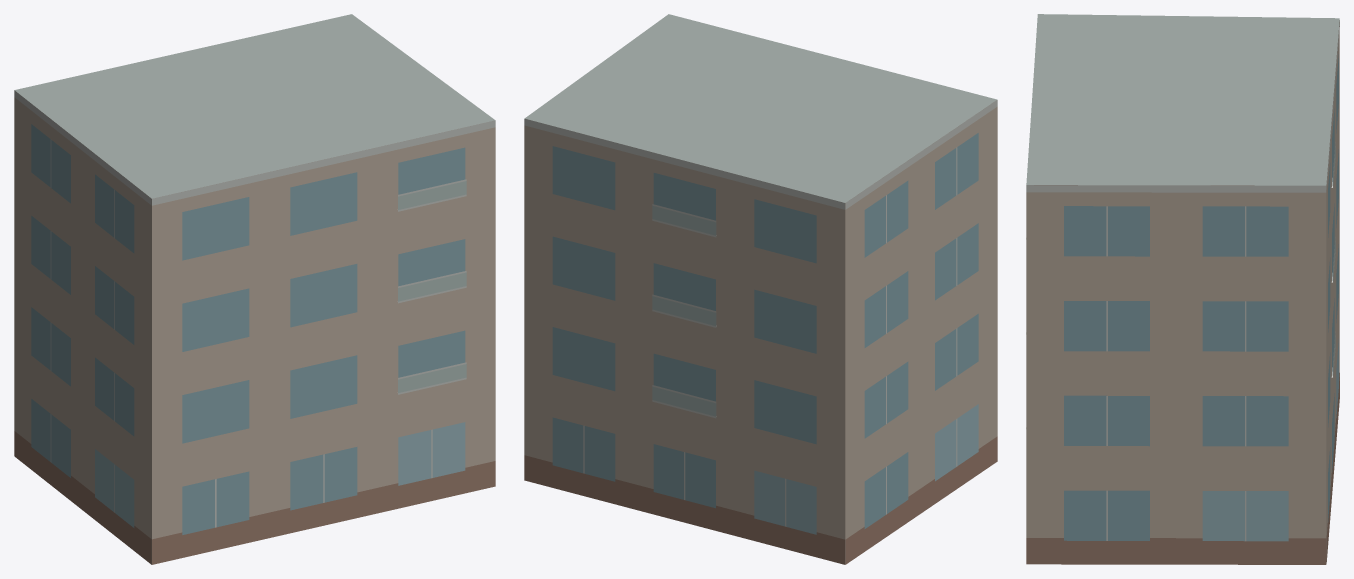
File: survey-upis-32926004.glb
3 views of the same model, side by side, from view 1: azimuth 30°, elevation 25°; view 2: azimuth 150°, elevation 25°; view 3: azimuth 270°, elevation 25° (orthographic). The views are drawn at different scales.
Visible parts, largest first — view 1: survey-upis-32926004.tmp; view 2: survey-upis-32926004.tmp; view 3: survey-upis-32926004.tmp.
Boxes of the visible parts, box(x1,y1,x2,y2) form: survey-upis-32926004.tmp: box(14, 14, 495, 564); survey-upis-32926004.tmp: box(524, 14, 997, 564); survey-upis-32926004.tmp: box(1026, 14, 1339, 564).
Size of the model in its own units: 12.43 by 12.8 by 9.6.
